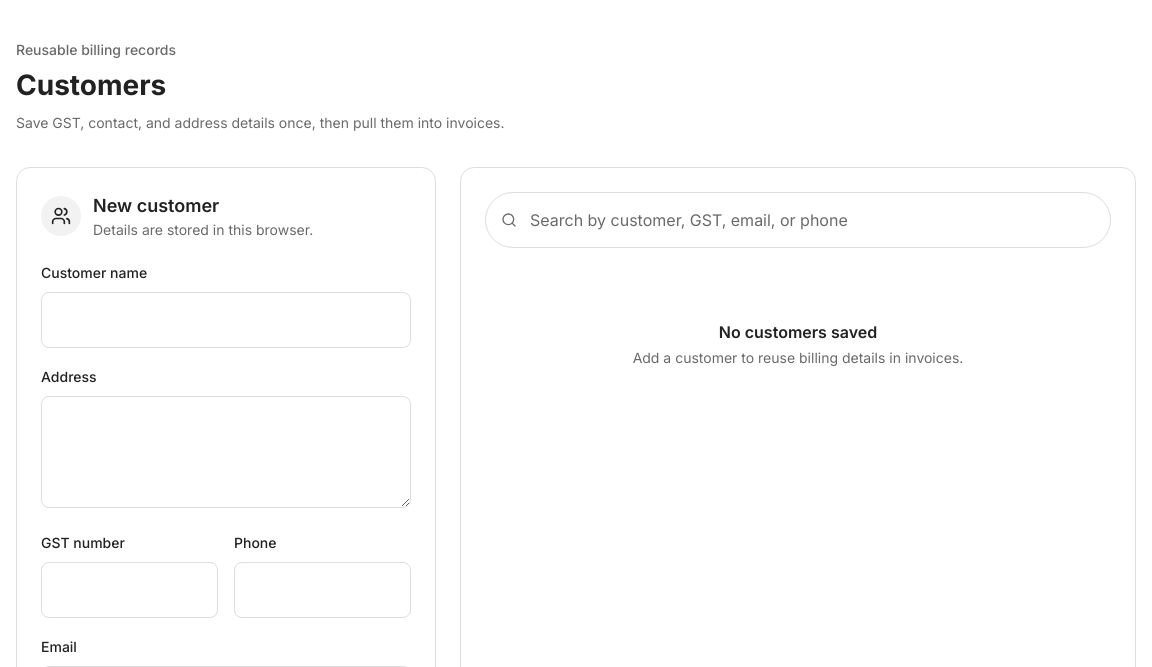
Test: CustomerManager › can add and then delete a customer successfully
Expected: the text "No customers saved" is shown, [719,322,877,342]
In the field labelled "Customer name": (226, 320) [41,292,411,348], type "Jane Doe"
In the text box labelled "Address": (226, 452) [41,396,411,508], type "456 Oak Lane, Delhi"
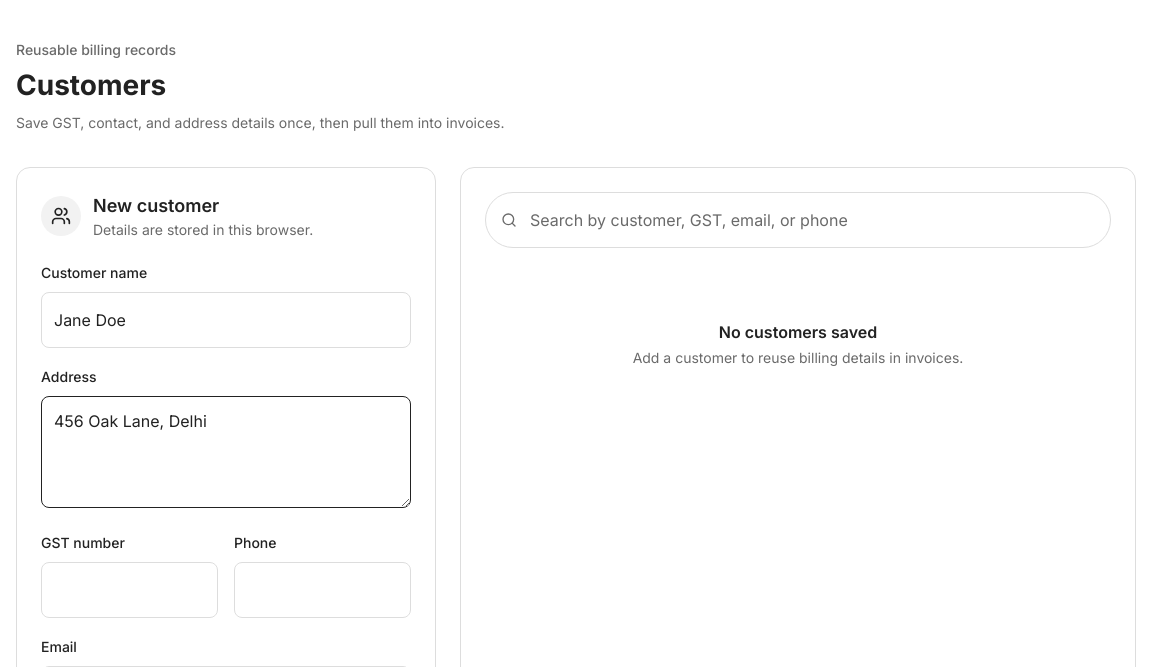
In the field labelled "GST number": (130, 590) [41,562,218,618], type "07AAAAA1111A1Z1"
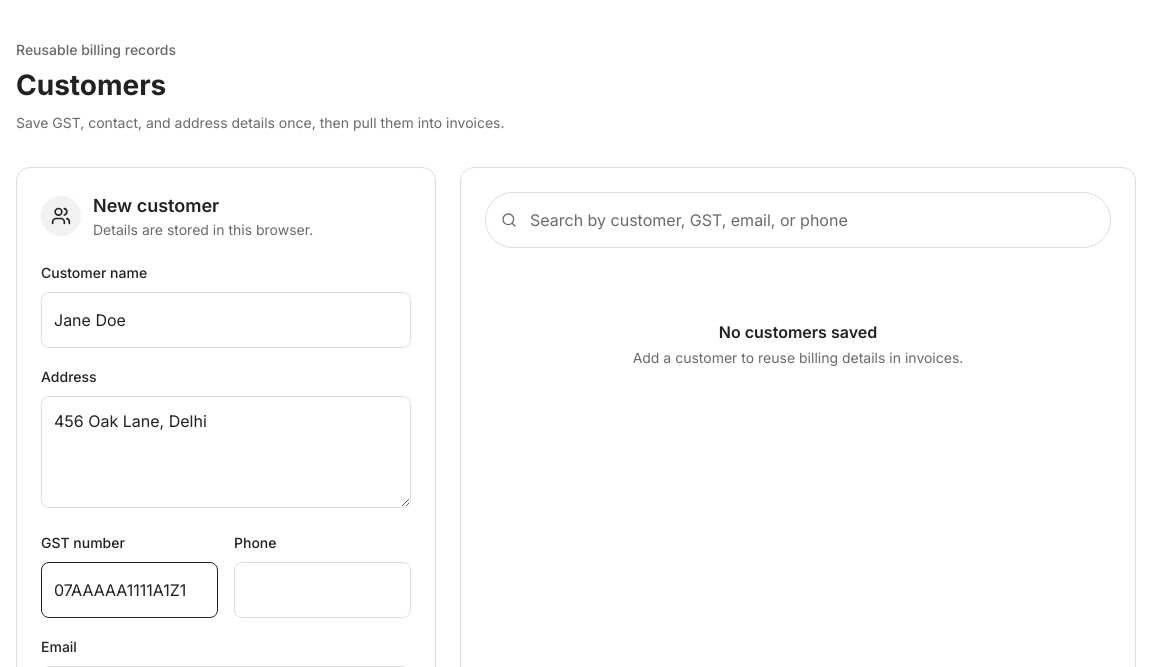
In the field labelled "Phone": (322, 590) [234,562,411,618], type "9876543210"
(page scrolled)
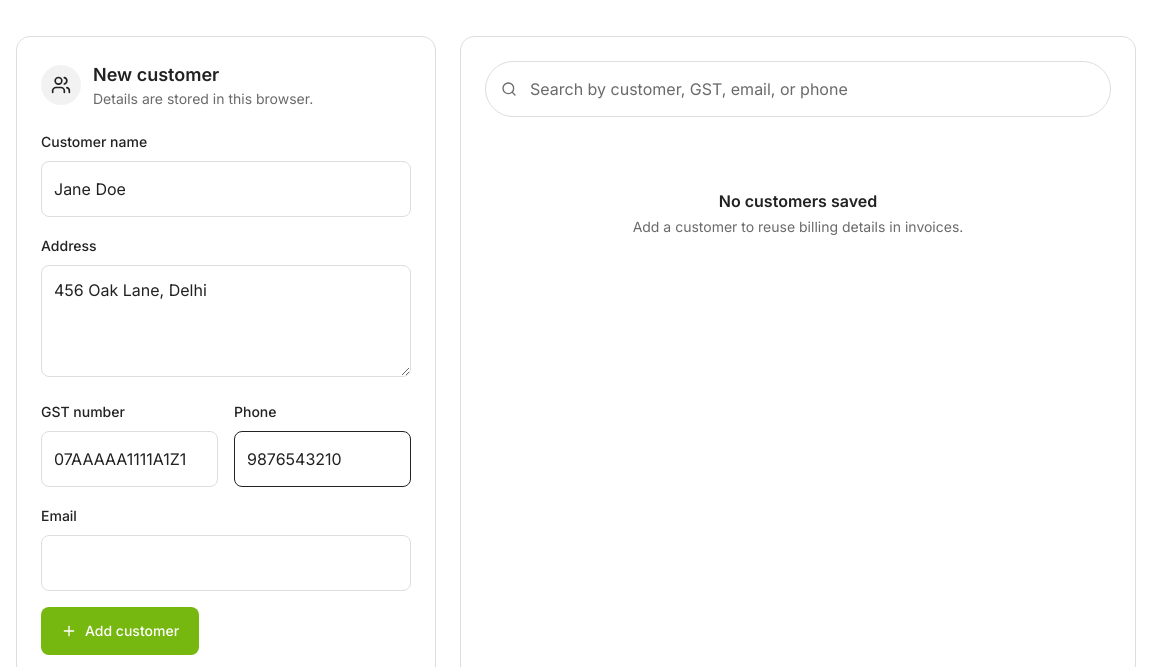
In the field labelled "Email": (226, 563) [41,535,411,591], type "jane@example.com"
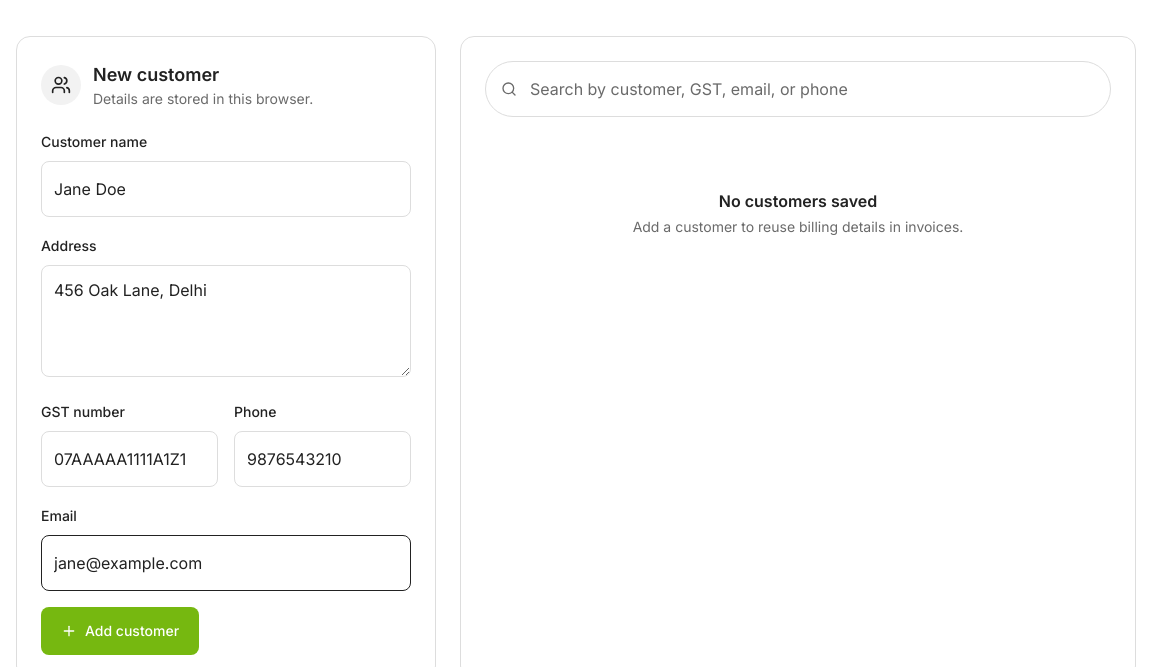
Click the button "Add customer": (120, 631) [41,607,199,655]
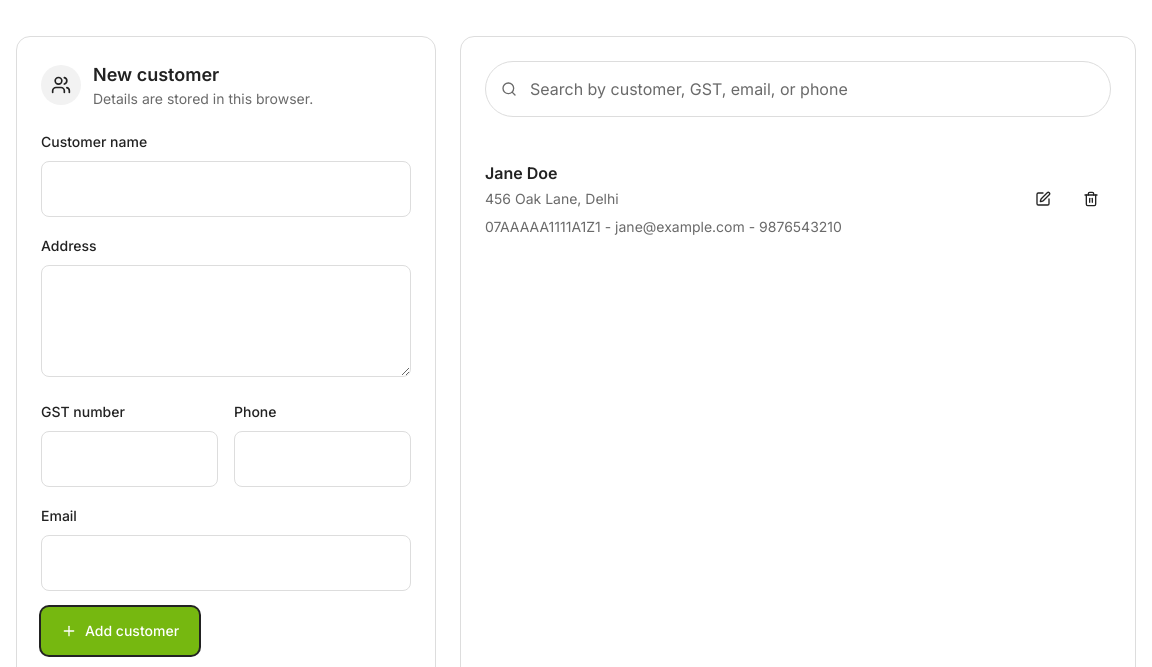
Now the heading "Jane Doe" is shown, box [485,163,558,183]
Now the text "456 Oak Lane, Delhi" is shown, box [485,190,619,207]
// Delete customer
Click the button named "Delete Jane Doe": (1091, 199) [1071,175,1111,223]
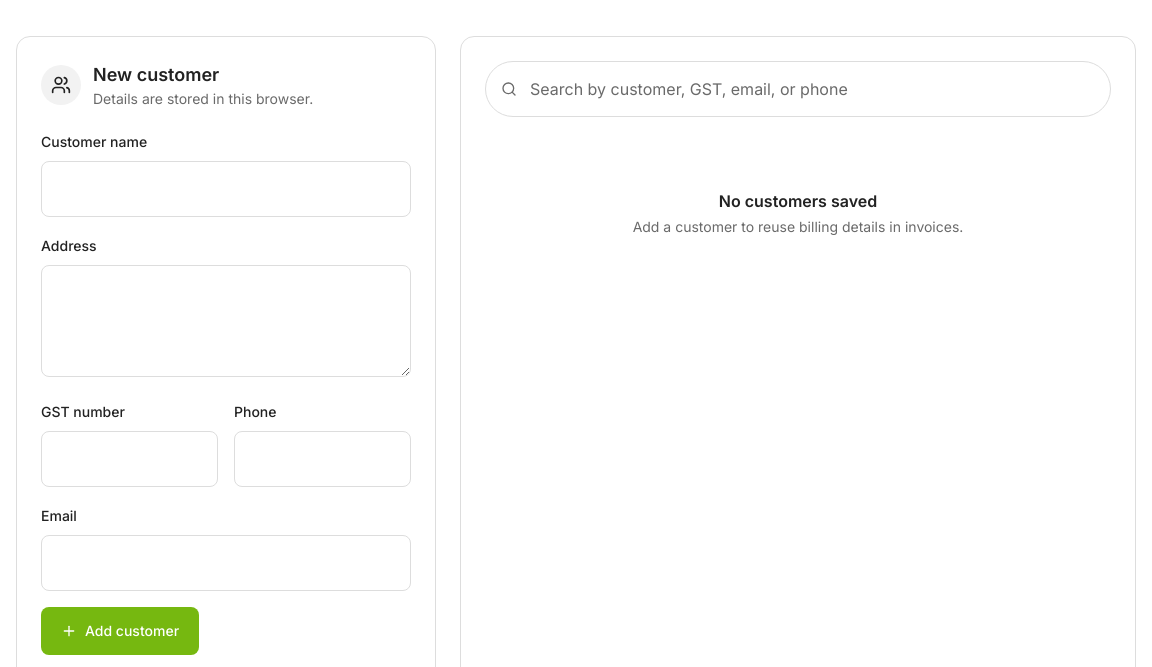
Now the heading "Jane Doe" is gone
Now the text "No customers saved" is shown, box [719,191,877,211]
